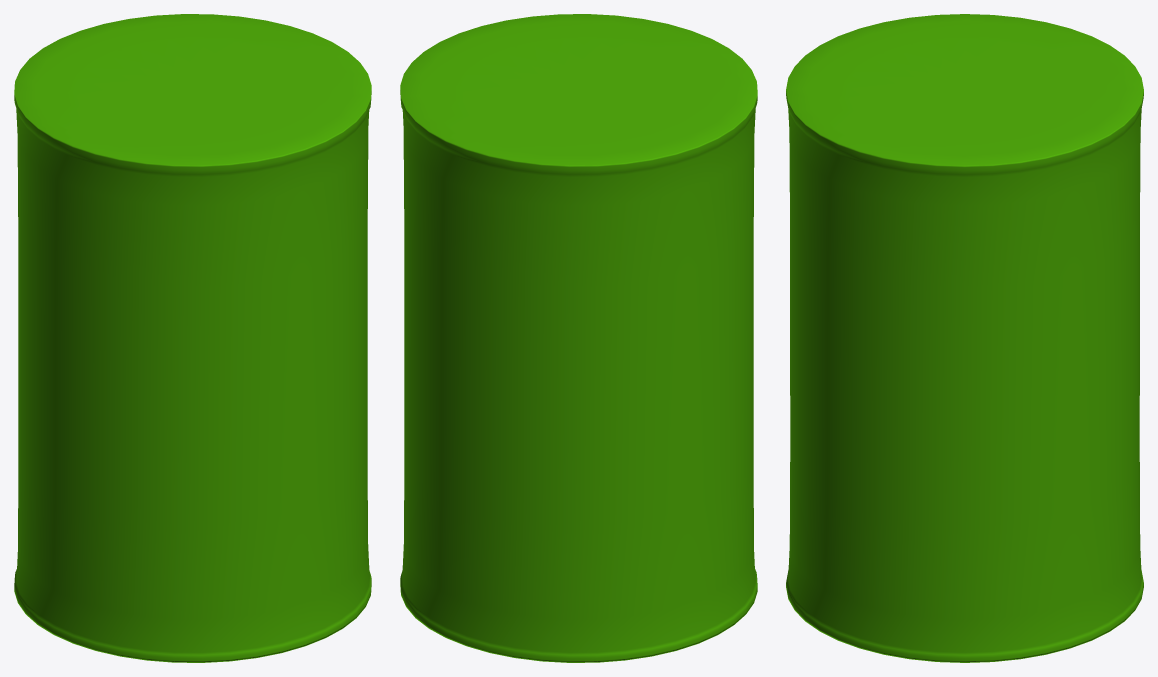
Rendered from Can_01.fbx.
3 views of the same model, side by side, from view 1: azimuth 30°, elevation 25°; view 2: azimuth 150°, elevation 25°; view 3: azimuth 270°, elevation 25° (orthographic).
Visible parts, largest first — view 1: Can_01; view 2: Can_01; view 3: Can_01.
Boxes of the visible parts, x1,y1,x2,y2 form: Can_01: (14, 14, 371, 662); Can_01: (400, 14, 757, 662); Can_01: (786, 14, 1143, 662).
Bounding box in the file's own units: 73.63 × 114 × 73.63.
